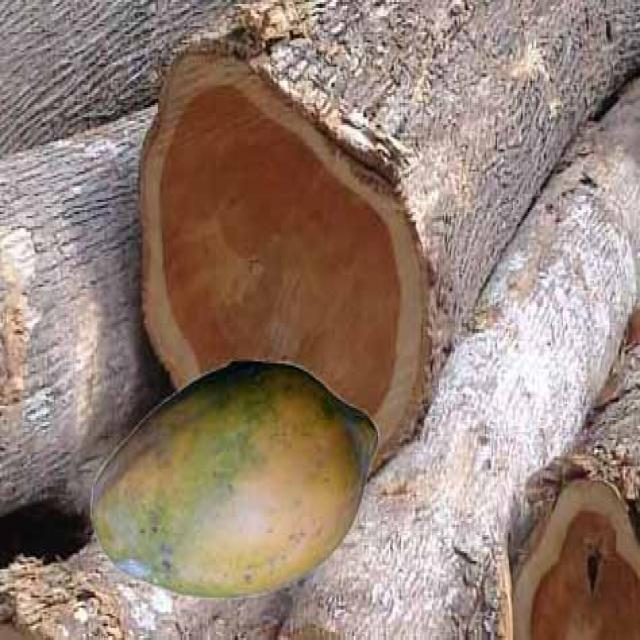Pepaya rippen: (88, 358, 374, 596)
